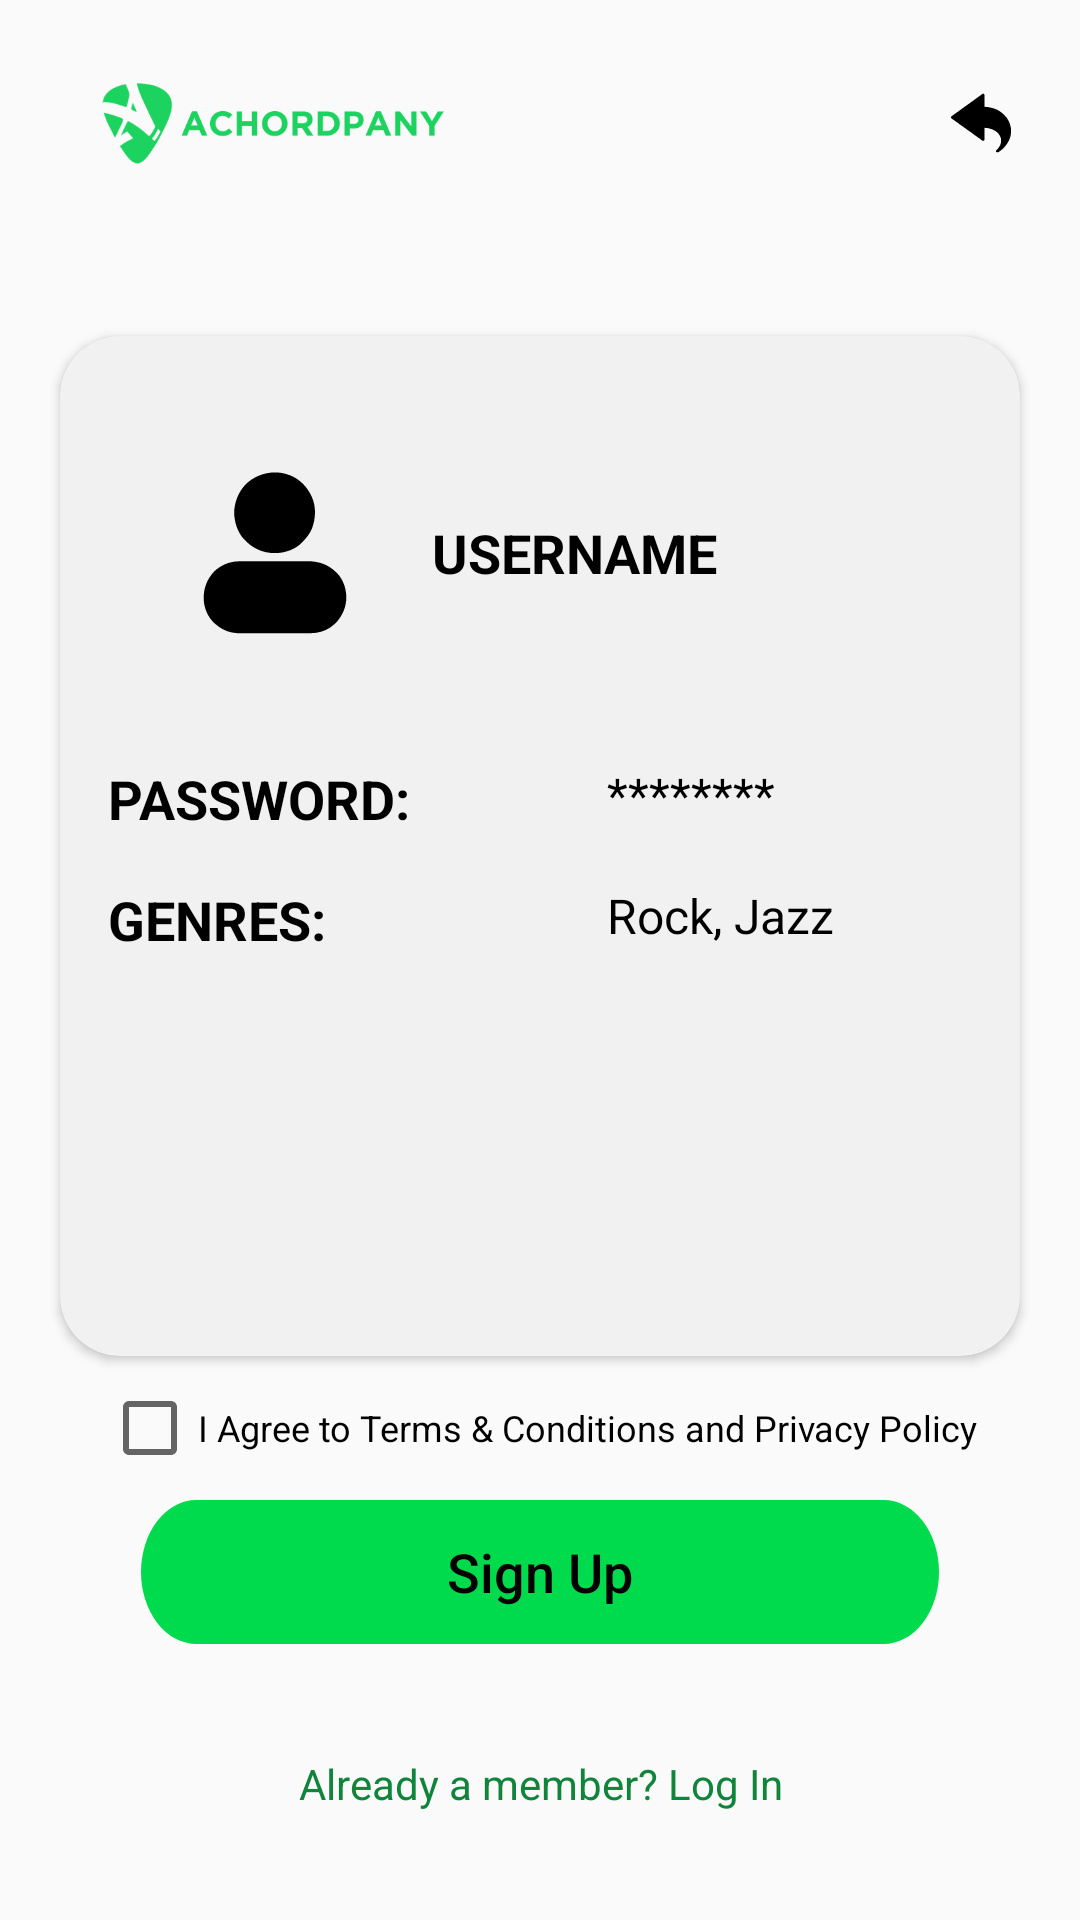

Named icons in this screenshot (1080x1920) and their bounding boxes, (x1, y1, x2, y2):
Back: (951, 93, 1011, 153)
